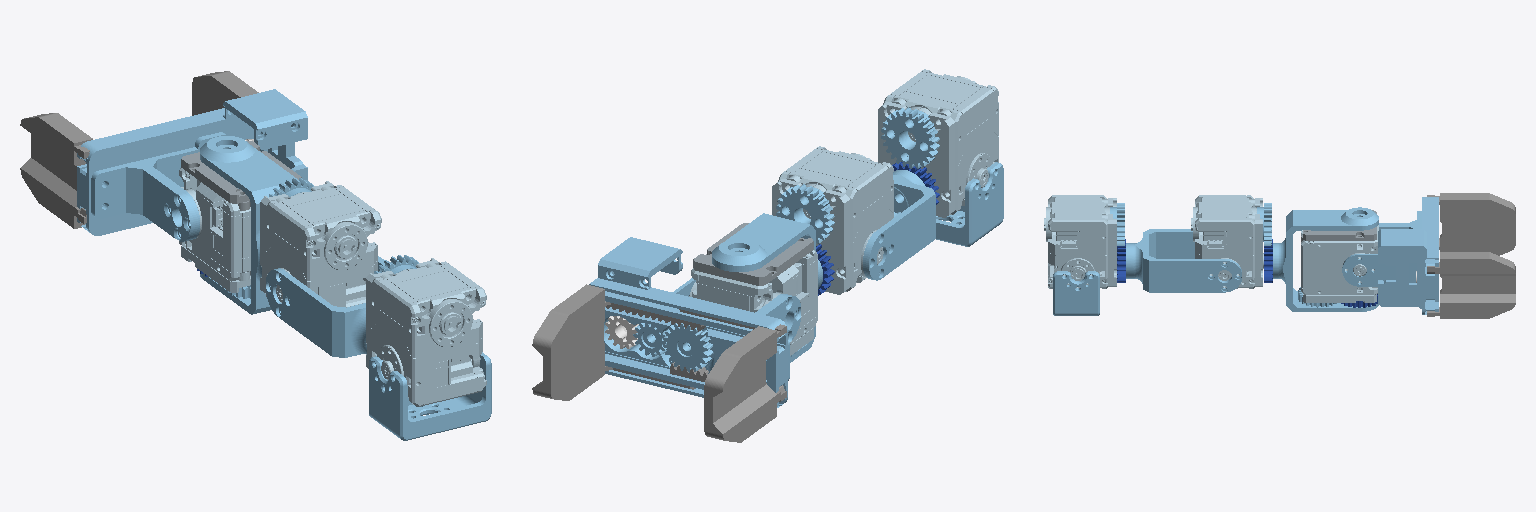
--- Facts derived from the render (not from the file) ---
The picture shows the robot from 3 angles, left to right: view 1: azimuth 30°, elevation 25°; view 2: azimuth 150°, elevation 25°; view 3: azimuth 270°, elevation 25°; orthographic projection.
Robot: right_arm_gripper — 19 links, 18 joints (10 revolute, 2 prismatic, 6 fixed); root link sho_pitch_link; default pose: all joints at 0.
Visible links, largest first — view 1: 2xl430_gears, 2xl430_gears_2, right_rail_guide, gripper_connector, rail_2, sho_pitch_link, 2xl430_gears_3, elb_yaw_link, sho_yaw_link, rail, wrist_bearing_plate; view 2: right_rail_guide, 2xl430_gears, 2xl430_gears_2, rail_2, rail, sho_yaw_link, 2xl430_gears_3, elb_yaw_link, sho_pitch_link, spur_1m_24t_drive, wrist_bearing_plate, spur_1m_24t_drive_2 (+2 smaller); view 3: 2xl430_gears, sho_yaw_link, 2xl430_gears_2, rail, right_rail_guide, rail_2, 2xl430_gears_3, elb_yaw_link, sho_pitch_link, gripper_connector, wrist_bearing_plate.
Boxes of the visible links, bbox=[...] form: 2xl430_gears: bbox=[366, 258, 486, 406]; 2xl430_gears_2: bbox=[260, 181, 381, 307]; right_rail_guide: bbox=[77, 89, 307, 235]; gripper_connector: bbox=[91, 132, 227, 241]; rail_2: bbox=[20, 113, 92, 228]; sho_pitch_link: bbox=[369, 352, 491, 440]; 2xl430_gears_3: bbox=[179, 168, 250, 292]; elb_yaw_link: bbox=[200, 136, 297, 314]; sho_yaw_link: bbox=[266, 256, 384, 357]; rail: bbox=[192, 71, 258, 115]; wrist_bearing_plate: bbox=[181, 141, 301, 210]; right_rail_guide: bbox=[589, 237, 787, 407]; 2xl430_gears: bbox=[878, 69, 998, 217]; 2xl430_gears_2: bbox=[772, 146, 893, 294]; rail_2: bbox=[670, 309, 786, 442]; rail: bbox=[532, 284, 705, 400]; sho_yaw_link: bbox=[863, 170, 935, 280]; 2xl430_gears_3: bbox=[689, 250, 817, 355]; elb_yaw_link: bbox=[712, 213, 822, 362]; sho_pitch_link: bbox=[936, 162, 1003, 246]; spur_1m_24t_drive: bbox=[881, 107, 939, 168]; wrist_bearing_plate: bbox=[693, 223, 813, 285]; spur_1m_24t_drive_2: bbox=[776, 184, 834, 243]; 2xl430_gears: bbox=[1044, 195, 1116, 288]; sho_yaw_link: bbox=[1126, 229, 1241, 292]; 2xl430_gears_2: bbox=[1191, 195, 1263, 288]; rail: bbox=[1427, 252, 1515, 318]; right_rail_guide: bbox=[1378, 197, 1438, 314]; rail_2: bbox=[1427, 193, 1515, 255]; 2xl430_gears_3: bbox=[1301, 225, 1378, 302]; elb_yaw_link: bbox=[1273, 207, 1378, 311]; sho_pitch_link: bbox=[1053, 271, 1099, 315]; gripper_connector: bbox=[1342, 211, 1421, 286]; wrist_bearing_plate: bbox=[1301, 210, 1376, 241].
Size in the robot's own frame: 0.0917 by 0.281 by 0.0652 metres.
18 mesh visuals loaded from 19 distinct referenced files (18 binary STL); not drawn: 1 (reference not matched to a file when rendering).

The robot description file, URDF, robot "right_arm_gripper":
<?xml version="1.0" ?><robot name="right_arm_gripper">  
  <link name="sho_pitch_link">    
    <visual>      
      <origin xyz="0 0 0" rpy="0 -0 0"/>      
      <geometry>        
        <mesh filename="package:///meshes/right_sho_pitch_link_visual.stl"/>        
      </geometry>      
      <material name="sho_pitch_link_material">        
        <color rgba="0.61568627450980395466 0.81176470588235294379 0.92941176470588238168 1.0"/>        
      </material>      
    </visual>    
    <collision>      
      <origin xyz="0 0 0" rpy="0 -0 0"/>      
      <geometry>        
        <mesh filename="package:///meshes/right_sho_pitch_link_collision.stl"/>        
      </geometry>      
    </collision>    
    <inertial>      
      <origin xyz="5.8254247111768885072e-11 -5.1264642561121128372e-05 0.0082440788127094936227" rpy="0 0 0"/>      
      <mass value="0.0086000000000000017403"/>      
      <inertia ixx="1.2272887040545793991e-06" ixy="-2.1429944204622608675e-14" ixz="-8.5847198084181228929e-15" iyy="2.9107306060364611617e-06" iyz="7.4623841398182918573e-09" izz="3.0803135950773483457e-06"/>      
    </inertial>    
  </link>  

  <link name="2xl430_gears">    
    <visual>      
      <origin xyz="0 0 0" rpy="0 -0 0"/>      
      <geometry>        
        <mesh filename="package:///meshes/right_2xl430_gears_visual.stl"/>        
      </geometry>      
      <material name="2xl430_gears_material">        
        <color rgba="0.7560598568794409946 0.8580469596269301169 0.91320266199377464478 1.0"/>        
      </material>      
    </visual>    
    <collision>      
      <origin xyz="0 0 0" rpy="0 -0 0"/>      
      <geometry>        
        <mesh filename="package:///meshes/right_2xl430_gears_collision.stl"/>        
      </geometry>      
    </collision>    
    <inertial>      
      <origin xyz="-0.011579403981033875928 -0.0024225766141437866767 -0.018551095523802622889" rpy="0 0 0"/>      
      <mass value="0.11800003674524910113"/>      
      <inertia ixx="2.7482298083236928881e-05" ixy="9.2729623433052696907e-07" ixz="-2.2634512004386817192e-08" iyy="3.2770742486672553985e-05" iyz="-6.5708346020062489801e-07" izz="3.576795754405571586e-05"/>      
    </inertial>    
  </link>  

  <link name="spur_1m_24t_drive">    
    <visual>      
      <origin xyz="0 0 0" rpy="0 -0 0"/>      
      <geometry>        
        <mesh filename="package:///meshes/right_spur_1m_24t_drive_visual.stl"/>        
      </geometry>      
      <material name="spur_1m_24t_drive_material">        
        <color rgba="0.61568627450980406568 0.81176470588235294379 0.92941176470588238168 1.0"/>        
      </material>      
    </visual>    
    <collision>      
      <origin xyz="0 0 0" rpy="0 -0 0"/>      
      <geometry>        
        <mesh filename="package:///meshes/right_spur_1m_24t_drive_collision.stl"/>        
      </geometry>      
    </collision>    
    <inertial>      
      <origin xyz="-7.7519099600589060025e-15 -1.2127011871397240169e-16 0.0047949116178401416863" rpy="0 0 0"/>      
      <mass value="0.0032000000000000001533"/>      
      <inertia ixx="1.4019331346159890349e-07" ixy="1.6002409955905311805e-15" ixz="1.5512658169588906241e-36" iyy="1.4019331260388783538e-07" iyz="6.832589472426226586e-37" izz="2.3838919844264055353e-07"/>      
    </inertial>    
  </link>  

  <joint name="right_sho_yaw_drive" type="revolute">    
    <origin xyz="-0.02400000071613753172 -0.019000000152449930679 -0.01900000015244478202" rpy="1.5707963267947220309 -4.4297106944168913575e-14 6.810646137204639124e-14"/>    
    <parent link="2xl430_gears"/>    
    <child link="spur_1m_24t_drive"/>    
    <axis xyz="0 0 1"/>    
    <limit effort="1" velocity="20" lower="-2.6179938779914944114" upper="2.6179938779914944114"/>    
    <joint_properties friction="0.0"/>    
  </joint>  

  <link name="spur_1m_24t_driven">    
    <visual>      
      <origin xyz="0 0 0" rpy="0 -0 0"/>      
      <geometry>        
        <mesh filename="package:///meshes/right_spur_1m_24t_driven_visual.stl"/>        
      </geometry>      
      <material name="spur_1m_24t_driven_material">        
        <color rgba="0.2313725490196078538 0.38039215686274507888 0.7058823529411765163 1.0"/>        
      </material>      
    </visual>    
    <collision>      
      <origin xyz="0 0 0" rpy="0 -0 0"/>      
      <geometry>        
        <mesh filename="package:///meshes/right_spur_1m_24t_driven_collision.stl"/>        
      </geometry>      
    </collision>    
    <inertial>      
      <origin xyz="2.013432096554274649e-18 -5.805102064921943026e-15 -0.00097054817521927832808" rpy="0 0 0"/>      
      <mass value="0.0026999999999999988419"/>      
      <inertia ixx="1.2036234079571060415e-07" ixy="3.0459387528081618108e-37" ixz="-3.0332648475783395259e-37" iyy="1.2036234079571041886e-07" iyz="-2.0908704881522094479e-36" izz="2.2847261745924527375e-07"/>      
    </inertial>    
  </link>  

  <link name="sho_yaw_link">    
    <visual>      
      <origin xyz="0 0 0" rpy="0 -0 0"/>      
      <geometry>        
        <mesh filename="package:///meshes/right_sho_yaw_link_visual.stl"/>        
      </geometry>      
      <material name="sho_yaw_link_material">        
        <color rgba="0.61568627450980384364 0.81176470588235294379 0.92941176470588238168 1.0"/>        
      </material>      
    </visual>    
    <collision>      
      <origin xyz="0 0 0" rpy="0 -0 0"/>      
      <geometry>        
        <mesh filename="package:///meshes/right_sho_yaw_link_collision.stl"/>        
      </geometry>      
    </collision>    
    <inertial>      
      <origin xyz="-1.2817564279970689321e-18 2.7707682582214270968e-18 -0.024303257848520169043" rpy="0 0 0"/>      
      <mass value="0.01450000000000000247"/>      
      <inertia ixx="9.0846670053041315019e-06" ixy="3.6224092806674809746e-13" ixz="-7.3094158734906294409e-36" iyy="5.6910950712097499617e-06" iyz="-4.7266869952784880621e-35" izz="4.4819609845548967459e-06"/>      
    </inertial>    
  </link>  

  <link name="2xl430_gears_2">    
    <visual>      
      <origin xyz="0 0 0" rpy="0 -0 0"/>      
      <geometry>        
        <mesh filename="package:///meshes/right_2xl430_gears_2_visual.stl"/>        
      </geometry>      
      <material name="2xl430_gears_2_material">        
        <color rgba="0.7560598568794409946 0.8580469596269301169 0.91320266199377464478 1.0"/>        
      </material>      
    </visual>    
    <collision>      
      <origin xyz="0 0 0" rpy="0 -0 0"/>      
      <geometry>        
        <mesh filename="package:///meshes/right_2xl430_gears_2_collision.stl"/>        
      </geometry>      
    </collision>    
    <inertial>      
      <origin xyz="-0.011579403981039848581 -0.0024225766141426031616 -0.018551095523806133969" rpy="0 0 0"/>      
      <mass value="0.11800003674524910113"/>      
      <inertia ixx="2.7482298083239717313e-05" ixy="9.2729623432914789355e-07" ixz="-2.2634512003324065467e-08" iyy="3.2770742486673665292e-05" iyz="-6.570834602014093564e-07" izz="3.5767957544057796173e-05"/>      
    </inertial>    
  </link>  

  <link name="spur_1m_24t_drive_2">    
    <visual>      
      <origin xyz="0 0 0" rpy="0 -0 0"/>      
      <geometry>        
        <mesh filename="package:///meshes/right_spur_1m_24t_drive_2_visual.stl"/>        
      </geometry>      
      <material name="spur_1m_24t_drive_2_material">        
        <color rgba="0.61568627450980406568 0.81176470588235294379 0.92941176470588238168 1.0"/>        
      </material>      
    </visual>    
    <collision>      
      <origin xyz="0 0 0" rpy="0 -0 0"/>      
      <geometry>        
        <mesh filename="package:///meshes/right_spur_1m_24t_drive_2_collision.stl"/>        
      </geometry>      
    </collision>    
    <inertial>      
      <origin xyz="-7.7519099600589044247e-15 -1.2127011873982159862e-16 0.0047949116178401382168" rpy="0 0 0"/>      
      <mass value="0.0032000000000000001533"/>      
      <inertia ixx="1.4019331346159885055e-07" ixy="1.600240996867667601e-15" ixz="3.4217861399280584567e-38" iyy="1.4019331260388780891e-07" iyz="-5.6275823426893574842e-37" izz="2.3838919844264055353e-07"/>      
    </inertial>    
  </link>  

  <joint name="right_elbow_yaw_drive" type="revolute">    
    <origin xyz="-0.02400000071614593472 -0.019000000152452525826 -0.019000000152448241059" rpy="1.5707963267948983344 1.6898711261348466559e-13 -7.2725329301663980295e-14"/>    
    <parent link="2xl430_gears_2"/>    
    <child link="spur_1m_24t_drive_2"/>    
    <axis xyz="0 0 1"/>    
    <limit effort="1" velocity="20" lower="-2.6179938779914944114" upper="2.6179938779914944114"/>    
    <joint_properties friction="0.0"/>    
  </joint>  

  <link name="spur_1m_24t_driven_2">    
    <visual>      
      <origin xyz="0 0 0" rpy="0 -0 0"/>      
      <geometry>        
        <mesh filename="package:///meshes/right_spur_1m_24t_driven_2_visual.stl"/>        
      </geometry>      
      <material name="spur_1m_24t_driven_2_material">        
        <color rgba="0.2313725490196078538 0.38039215686274507888 0.7058823529411765163 1.0"/>        
      </material>      
    </visual>    
    <collision>      
      <origin xyz="0 0 0" rpy="0 -0 0"/>      
      <geometry>        
        <mesh filename="package:///meshes/right_spur_1m_24t_driven_2_collision.stl"/>        
      </geometry>      
    </collision>    
    <inertial>      
      <origin xyz="2.0134320965544017604e-18 -5.8051020649219406594e-15 -0.00097054817521928168911" rpy="0 0 0"/>      
      <mass value="0.0026999999999999988419"/>      
      <inertia ixx="1.2036234079571065709e-07" ixy="2.899963080074186682e-37" ixz="1.3128544367748215036e-36" iyy="1.2036234079571041886e-07" iyz="-2.5130632054411360401e-36" izz="2.2847261745924537963e-07"/>      
    </inertial>    
  </link>  

  <link name="elb_yaw_link">    
    <visual>      
      <origin xyz="0 0 0" rpy="0 -0 0"/>      
      <geometry>        
        <mesh filename="package:///meshes/right_elb_yaw_link_visual.stl"/>        
      </geometry>      
      <material name="elb_yaw_link_material">        
        <color rgba="0.61568627450980395466 0.81176470588235294379 0.92941176470588227065 1.0"/>        
      </material>      
    </visual>    
    <collision>      
      <origin xyz="0 0 0" rpy="0 -0 0"/>      
      <geometry>        
        <mesh filename="package:///meshes/right_elb_yaw_link_collision.stl"/>        
      </geometry>      
    </collision>    
    <inertial>      
      <origin xyz="5.3127688027669281628e-08 0.0019833638641961639885 -0.023416643551549924662" rpy="0 0 0"/>      
      <mass value="0.017500000000000001665"/>      
      <inertia ixx="1.4134344903109199776e-05" ixy="1.6945783921970149659e-12" ixz="-1.1286398721803475354e-11" iyy="6.6435900776211348874e-06" iyz="1.0545227077253059697e-06" izz="8.9925290757998993713e-06"/>      
    </inertial>    
  </link>  

  <link name="spur_1m_24t_driven_3">    
    <visual>      
      <origin xyz="0 0 0" rpy="0 -0 0"/>      
      <geometry>        
        <mesh filename="package:///meshes/right_spur_1m_24t_driven_3_visual.stl"/>        
      </geometry>      
      <material name="spur_1m_24t_driven_3_material">        
        <color rgba="0.2313725490196078538 0.38039215686274507888 0.7058823529411765163 1.0"/>        
      </material>      
    </visual>    
    <collision>      
      <origin xyz="0 0 0" rpy="0 -0 0"/>      
      <geometry>        
        <mesh filename="package:///meshes/right_spur_1m_24t_driven_3_collision.stl"/>        
      </geometry>      
    </collision>    
    <inertial>      
      <origin xyz="-2.5742143519074604965e-17 -5.8051020649219406594e-15 -0.0025705481752192754774" rpy="0 0 0"/>      
      <mass value="0.0026999999999999988419"/>      
      <inertia ixx="1.2036234079571060415e-07" ixy="2.369548804071498896e-36" ixz="-1.6418916509117526781e-37" iyy="1.2036234079571041886e-07" iyz="2.6219923247193891731e-37" izz="2.2847261745924527375e-07"/>      
    </inertial>    
  </link>  

  <link name="2xl430_gears_3">    
    <visual>      
      <origin xyz="0 0 0" rpy="0 -0 0"/>      
      <geometry>        
        <mesh filename="package:///meshes/right_2xl430_gears_3_visual.stl"/>        
      </geometry>      
      <material name="2xl430_gears_3_material">        
        <color rgba="0.7560598568794409946 0.8580469596269301169 0.91320266199377464478 1.0"/>        
      </material>      
    </visual>    
    <collision>      
      <origin xyz="0 0 0" rpy="0 -0 0"/>      
      <geometry>        
        <mesh filename="package:///meshes/right_2xl430_gears_3_collision.stl"/>        
      </geometry>      
    </collision>    
    <inertial>      
      <origin xyz="0.00044890447619669408006 0.011579403622970779394 -0.024577423538312447721" rpy="0 0 0"/>      
      <mass value="0.11800003674524910113"/>      
      <inertia ixx="3.5767957544055424481e-05" ixy="2.2634512004688532975e-08" ixz="6.5708346020178840365e-07" iyy="2.748229808323665783e-05" iyz="9.2729623433030875221e-07" izz="3.2770742486673733055e-05"/>      
    </inertial>    
  </link>  

  <link name="spur_1m_24t_drive_3">    
    <visual>      
      <origin xyz="0 0 0" rpy="0 -0 0"/>      
      <geometry>        
        <mesh filename="package:///meshes/right_spur_1m_24t_drive_3_visual.stl"/>        
      </geometry>      
      <material name="spur_1m_24t_drive_3_material">        
        <color rgba="0.61568627450980406568 0.81176470588235294379 0.92941176470588238168 1.0"/>        
      </material>      
    </visual>    
    <collision>      
      <origin xyz="0 0 0" rpy="0 -0 0"/>      
      <geometry>        
        <mesh filename="package:///meshes/right_spur_1m_24t_drive_3_collision.stl"/>        
      </geometry>      
    </collision>    
    <inertial>      
      <origin xyz="-7.7519099600589044247e-15 -1.2127011873982159862e-16 0.0047949116178401460231" rpy="0 0 0"/>      
      <mass value="0.0032000000000000001533"/>      
      <inertia ixx="1.4019331346159885055e-07" ixy="1.6002409955905311805e-15" ixz="-3.331753735374715493e-37" iyy="1.4019331260388783538e-07" iyz="3.0918437697492276473e-37" izz="2.3838919844264055353e-07"/>      
    </inertial>    
  </link>  

  <joint name="right_wrist_pitch_drive" type="revolute">    
    <origin xyz="-1.5244750094239886385e-10 0.0240000003580740362 -0.0080000000000028936853" rpy="-2.6466654378983997098e-14 5.3007428237114777825e-14 -1.5707963267948148456"/>    
    <parent link="2xl430_gears_3"/>    
    <child link="spur_1m_24t_drive_3"/>    
    <axis xyz="0 0 1"/>    
    <limit effort="1" velocity="20" lower="-1.3962634015954635824" upper="1.9198621771937625091"/>    
    <joint_properties friction="0.0"/>    
  </joint>  

  <link name="gripper_connector">    
    <visual>      
      <origin xyz="0 0 0" rpy="0 -0 0"/>      
      <geometry>        
        <mesh filename="package:///meshes/right_gripper_connector_visual.stl"/>        
      </geometry>      
      <material name="gripper_connector_material">        
        <color rgba="0.61568627450980395466 0.81176470588235283277 0.92941176470588238168 1.0"/>        
      </material>      
    </visual>    
    <collision>      
      <origin xyz="0 0 0" rpy="0 -0 0"/>      
      <geometry>        
        <mesh filename="package:///meshes/right_gripper_connector_collision.stl"/>        
      </geometry>      
    </collision>    
    <inertial>      
      <origin xyz="-0.00020299682521053864759 0.023971521766976103263 -0.029403013850151971803" rpy="0 0 0"/>      
      <mass value="0.009999999999999995004"/>      
      <inertia ixx="5.3001475666257255205e-06" ixy="2.3401437868255168398e-08" ixz="4.811583299767815884e-08" iyy="3.824595446707140777e-06" iyz="1.9316561248438855537e-08" izz="2.2623415168893589331e-06"/>      
    </inertial>    
  </link>  

  <link name="right_rail_guide">    
    <visual>      
      <origin xyz="0 0 0" rpy="0 -0 0"/>      
      <geometry>        
        <mesh filename="package:///meshes/right_rail_guide_visual.stl"/>        
      </geometry>      
      <material name="right_rail_guide_material">        
        <color rgba="0.62025753727489985057 0.81399173133201507824 0.93011503590051247681 1.0"/>        
      </material>      
    </visual>    
    <collision>      
      <origin xyz="0 0 0" rpy="0 -0 0"/>      
      <geometry>        
        <mesh filename="package:///meshes/right_rail_guide_collision.stl"/>        
      </geometry>      
    </collision>    
    <inertial>      
      <origin xyz="0.009274155066716202947 -0.0022368973911260654069 1.1465282798784367556e-05" rpy="0 0 0"/>      
      <mass value="0.030111386261699936429"/>      
      <inertia ixx="7.0587141071297691507e-06" ixy="-2.0076614642548894021e-06" ixz="3.7679719233345467514e-06" iyy="2.5402123601769114198e-05" iyz="8.8191782705952085038e-07" izz="2.785726023589890857e-05"/>      
    </inertial>    
  </link>  

  <link name="rail">    
    <visual>      
      <origin xyz="0 0 0" rpy="0 -0 0"/>      
      <geometry>        
        <mesh filename="package:///meshes/right_rail_visual.stl"/>        
      </geometry>      
      <material name="rail_material">        
        <color rgba="0.64705882352941179736 0.64705882352941179736 0.64705882352941179736 1.0"/>        
      </material>      
    </visual>    
    <collision>      
      <origin xyz="0 0 0" rpy="0 -0 0"/>      
      <geometry>        
        <mesh filename="package:///meshes/right_rail_collision.stl"/>        
      </geometry>      
    </collision>    
    <inertial>      
      <origin xyz="0.022744777800883853036 -0.014233439403357412215 -0.0079907133176532266217" rpy="0 0 0"/>      
      <mass value="0.011899999999999995651"/>      
      <inertia ixx="2.9161025366903498589e-06" ixy="4.4570835808163398958e-09" ixz="-7.5225164550604597845e-07" iyy="3.6201306422454488178e-06" iyz="2.6765050785959659386e-08" izz="4.4681807873990682717e-06"/>      
    </inertial>    
  </link>  

  <joint name="right_gripper_pinion_1" type="prismatic">    
    <origin xyz="-0.028872600000001191756 -0.014174999999999993161 -0.005350000000001076117" rpy="-3.141592653589793116 1.5707963267948954478 0"/>    
    <parent link="right_rail_guide"/>    
    <child link="rail"/>    
    <axis xyz="0 0 1"/>    
    <limit effort="1" velocity="20" lower="-0.036872599999999998432" upper="0"/>    
    <joint_properties friction="0.0"/>    
  </joint>  

  <link name="rail_2">    
    <visual>      
      <origin xyz="0 0 0" rpy="0 -0 0"/>      
      <geometry>        
        <mesh filename="package:///meshes/right_rail_2_visual.stl"/>        
      </geometry>      
      <material name="rail_2_material">        
        <color rgba="0.64705882352941179736 0.64705882352941179736 0.64705882352941179736 1.0"/>        
      </material>      
    </visual>    
    <collision>      
      <origin xyz="0 0 0" rpy="0 -0 0"/>      
      <geometry>        
        <mesh filename="package:///meshes/right_rail_2_collision.stl"/>        
      </geometry>      
    </collision>    
    <inertial>      
      <origin xyz="0.022744777800883853036 -0.014233439403357413949 -0.0079907133176532543772" rpy="0 0 0"/>      
      <mass value="0.011899999999999995651"/>      
      <inertia ixx="2.9161025366903498589e-06" ixy="4.4570835808163398958e-09" ixz="-7.5225164550604597845e-07" iyy="3.6201306422454488178e-06" iyz="2.6765050785959659386e-08" izz="4.4681807873990682717e-06"/>      
    </inertial>    
  </link>  

  <joint name="right_gripper_pinion_2" type="prismatic">    
    <origin xyz="0.062872599999998834974 0.01417499999999999663 -0.0053500000000010206058" rpy="9.1593399531549520226e-16 1.5707963267948945596 0"/>    
    <parent link="right_rail_guide"/>    
    <child link="rail_2"/>    
    <axis xyz="0 0 1"/>    
    <limit effort="1" velocity="20" lower="-0.036872599999999998432" upper="0"/>    
    <joint_properties friction="0.0"/>    
  </joint>  

  <link name="xc330">    
    <visual>      
      <origin xyz="0 0 0" rpy="0 -0 0"/>      
      <geometry>        
        <mesh filename="package:///meshes/right_xc330_visual.stl"/>        
      </geometry>      
      <material name="xc330_material">        
        <color rgba="0.66932535752643762539 0.72911795671409951325 0.67547870389434383487 1.0"/>        
      </material>      
    </visual>    
    <collision>      
      <origin xyz="0 0 0" rpy="0 -0 0"/>      
      <geometry>        
        <mesh filename="package:///meshes/right_xc330_collision.stl"/>        
      </geometry>      
    </collision>    
    <inertial>      
      <origin xyz="0.0080045171539637055558 -0.015558009851631656936 -0.011717805512818139924" rpy="0 0 0"/>      
      <mass value="0.026599999993091760775"/>      
      <inertia ixx="3.868341066651401772e-06" ixy="-7.7688424002228949476e-10" ixz="5.7969695833036041471e-10" iyy="2.1626767907494474886e-06" iyz="8.3590274792902258621e-09" izz="3.3158761130056255149e-06"/>      
    </inertial>    
  </link>  

  <link name="spur_gear_(14_teeth)">    
    <visual>      
      <origin xyz="0 0 0" rpy="0 -0 0"/>      
      <geometry>        
        <mesh filename="package:///meshes/right_spur_gear_(14_teeth)_visual.stl"/>        
      </geometry>      
      <material name="spur_gear_(14_teeth)_material">        
        <color rgba="0.9176470588235294823 0.9176470588235294823 0.9176470588235294823 1.0"/>        
      </material>      
    </visual>    
    <collision>      
      <origin xyz="0 0 0" rpy="0 -0 0"/>      
      <geometry>        
        <mesh filename="package:///meshes/right_spur_gear_(14_teeth)_collision.stl"/>        
      </geometry>      
    </collision>    
    <inertial>      
      <origin xyz="5.0520117152175192388e-09 -3.0586955537814657064e-09 -0.0069037287088334620133" rpy="0 0 0"/>      
      <mass value="0.0012999999999999997235"/>      
      <inertia ixx="2.6445547365951355406e-08" ixy="2.5401821979637149987e-10" ixz="1.9678356781305539878e-14" iyy="2.6850679146645040953e-08" iyz="-1.191408660820745649e-14" izz="3.402743462305303444e-08"/>      
    </inertial>    
  </link>  

  <joint name="right_gripper_rack" type="revolute">    
    <origin xyz="0.0079999999999993270938 -0.022499999999995481947 -0.019999999999999684697" rpy="5.6483726968237356019e-16 2.1632341620255480784e-16 1.8833104111286173228e-17"/>    
    <parent link="xc330"/>    
    <child link="spur_gear_(14_teeth)"/>    
    <axis xyz="0 0 1"/>    
    <limit effort="1" velocity="20" lower="0" upper="5.2359877559829888227"/>    
    <joint_properties friction="0.0"/>    
  </joint>  

  <joint name="right_gripper_motor" type="fixed">    
    <origin xyz="-0.005949999999999996958 -0.022599999999999995093 0.023299999999999931877" rpy="-3.3306690738751713332e-16 -9.4115114089812621852e-30 -3.141592653589793116"/>    
    <parent link="right_rail_guide"/>    
    <child link="xc330"/>    
    <axis xyz="0 0 1"/>    
    <limit effort="1" velocity="20"/>    
    <joint_properties friction="0.0"/>    
  </joint>  

  <joint name="right_gripper_fixed" type="fixed">    
    <origin xyz="3.4694469519536141888e-18 0.036999999999999977351 -0.0020000000000000017764" rpy="1.570796326794896336 1.570796326794896558 0"/>    
    <parent link="gripper_connector"/>    
    <child link="right_rail_guide"/>    
    <axis xyz="0 0 1"/>    
    <limit effort="1" velocity="20"/>    
    <joint_properties friction="0.0"/>    
  </joint>  

  <joint name="right_wrist_roll" type="revolute">    
    <origin xyz="0.019000000000002677941 -3.5806407838734344296e-10 -0.027000000152454406432" rpy="-3.1415926535897558125 -1.570796326794831721 0"/>    
    <parent link="2xl430_gears_3"/>    
    <child link="gripper_connector"/>    
    <axis xyz="0 0 1"/>    
    <limit effort="1" velocity="20" lower="-1.3962634015954635824" upper="1.9198621771937625091"/>    
    <joint_properties friction="0.0"/>    
  </joint>  

  <link name="wrist_bearing_plate">    
    <visual>      
      <origin xyz="0 0 0" rpy="0 -0 0"/>      
      <geometry>        
        <mesh filename="package:///meshes/right_wrist_bearing_plate_visual.stl"/>        
      </geometry>      
      <material name="wrist_bearing_plate_material">        
        <color rgba="0.64496316278892629192 0.69011804996940528945 0.71706771073555886087 1.0"/>        
      </material>      
    </visual>    
    <collision>      
      <origin xyz="0 0 0" rpy="0 -0 0"/>      
      <geometry>        
        <mesh filename="package:///meshes/right_wrist_bearing_plate_collision.stl"/>        
      </geometry>      
    </collision>    
    <inertial>      
      <origin xyz="-0.0075835583121500035539 -0.015499999999999982542 -0.0018386323705903435521" rpy="0 0 0"/>      
      <mass value="0.0049000367468305539714"/>      
      <inertia ixx="4.970743010915013972e-07" ixy="7.8908790833106419086e-23" ixz="1.8100904820814068335e-08" iyy="7.1268523603538563647e-07" iyz="4.3653874061918244677e-24" izz="1.1919657811600102881e-06"/>      
    </inertial>    
  </link>  

  <joint name="right_wrist_pitch_fixed" type="fixed">    
    <origin xyz="0.015500000000002131864 9.6866958898544908152e-15 -0.045000000000006430689" rpy="-2.6645352590932944871e-15 1.1984857550828037264e-13 -1.5707963267947835373"/>    
    <parent link="2xl430_gears_3"/>    
    <child link="wrist_bearing_plate"/>    
    <axis xyz="0 0 1"/>    
    <limit effort="1" velocity="20"/>    
    <joint_properties friction="0.0"/>    
  </joint>  

  <joint name="right_wrist_pitch_driven" type="revolute">    
    <origin xyz="-2.7755575615628913511e-17 6.3108872417680944433e-30 -0.0015999999999999992093" rpy="5.5511151231243844462e-16 1.2547220914404902092e-15 1.570796326794896558"/>    
    <parent link="spur_1m_24t_driven_3"/>    
    <child link="2xl430_gears_3"/>    
    <axis xyz="0 0 1"/>    
    <limit effort="1" velocity="20" lower="-1.9198621771937625091" upper="1.3962634015954635824"/>    
    <joint_properties friction="0.0"/>    
  </joint>  

  <joint name="right_wrist_roll_fixed" type="fixed">    
    <origin xyz="1.5777218104420236108e-30 -0.025299999999999999573 -0.052000000000000004552" rpy="1.5707963267948974462 1.570796326794896558 0"/>    
    <parent link="elb_yaw_link"/>    
    <child link="spur_1m_24t_driven_3"/>    
    <axis xyz="0 0 1"/>    
    <limit effort="1" velocity="20"/>    
    <joint_properties friction="0.0"/>    
  </joint>  

  <joint name="right_elbow_yaw_fixed" type="fixed">    
    <origin xyz="0 7.8886090522101180541e-30 0.0015999999999999764411" rpy="3.141592653589793116 -4.1526642731421539574e-29 -1.570796326794896558"/>    
    <parent link="spur_1m_24t_driven_2"/>    
    <child link="elb_yaw_link"/>    
    <axis xyz="0 0 1"/>    
    <limit effort="1" velocity="20"/>    
    <joint_properties friction="0.0"/>    
  </joint>  

  <joint name="right_elbow_yaw_driven" type="revolute">    
    <origin xyz="-3.5806997991660871605e-10 -0.027000000152456016256 -0.01900000000000036729" rpy="1.5707963267948485964 8.4311697099245782578e-14 3.098094357577576486e-14"/>    
    <parent link="2xl430_gears_2"/>    
    <child link="spur_1m_24t_driven_2"/>    
    <axis xyz="0 0 1"/>    
    <limit effort="1" velocity="20" lower="-2.6179938779914944114" upper="2.6179938779914944114"/>    
    <joint_properties friction="0.0"/>    
  </joint>  

  <joint name="right_elbow_roll" type="revolute">    
    <origin xyz="-3.4694469519536141888e-18 -0.018999999999999999528 -0.059000000000000010769" rpy="1.570796326794896558 5.4458140093899203203e-15 -1.8535314627675585241e-14"/>    
    <parent link="sho_yaw_link"/>    
    <child link="2xl430_gears_2"/>    
    <axis xyz="0 0 1"/>    
    <limit effort="1" velocity="20" lower="-1.9198621771937625091" upper="2.4434609527920612138"/>    
    <joint_properties friction="0.0"/>    
  </joint>  

  <joint name="right_sho_yaw_fixed" type="fixed">    
    <origin xyz="0 1.1832913578315177081e-30 0.0015999999999999937883" rpy="3.141592653589793116 -1.9721522629860631248e-30 4.8102873877572434203e-28"/>    
    <parent link="spur_1m_24t_driven"/>    
    <child link="sho_yaw_link"/>    
    <axis xyz="0 0 1"/>    
    <limit effort="1" velocity="20"/>    
    <joint_properties friction="0.0"/>    
  </joint>  

  <joint name="right_sho_yaw_driven" type="revolute">    
    <origin xyz="-3.5806749579259111727e-10 -0.027000000152448931645 -0.018999999999998073985" rpy="1.5707963267947655517 -4.3564811365923459647e-14 5.9791231064775441371e-14"/>    
    <parent link="2xl430_gears"/>    
    <child link="spur_1m_24t_driven"/>    
    <axis xyz="0 0 1"/>    
    <limit effort="1" velocity="20" lower="-2.6179938779914944114" upper="2.6179938779914944114"/>    
    <joint_properties friction="0.0"/>    
  </joint>  

  <joint name="right_sho_roll" type="revolute">    
    <origin xyz="-0.019000000000000002998 0.0010000000000000076102 0.027000000000000003164" rpy="3.141592653589793116 1.5707963267948827912 0"/>    
    <parent link="sho_pitch_link"/>    
    <child link="2xl430_gears"/>    
    <axis xyz="0 0 1"/>    
    <limit effort="1" velocity="20" lower="-1.570796326794896558" upper="0.34906585039886589561"/>    
    <joint_properties friction="0.0"/>    
  </joint>  


</robot>
